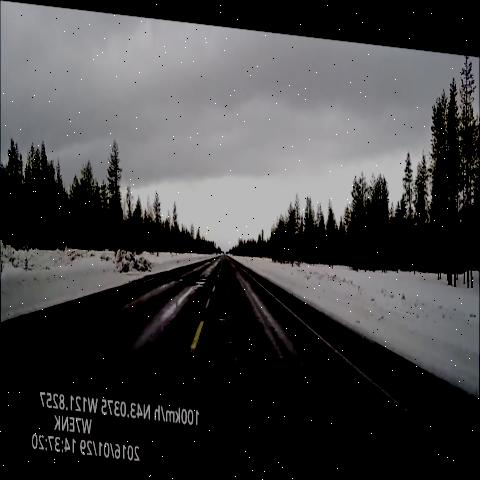pothole: (194, 262, 212, 287), (171, 263, 187, 284)
